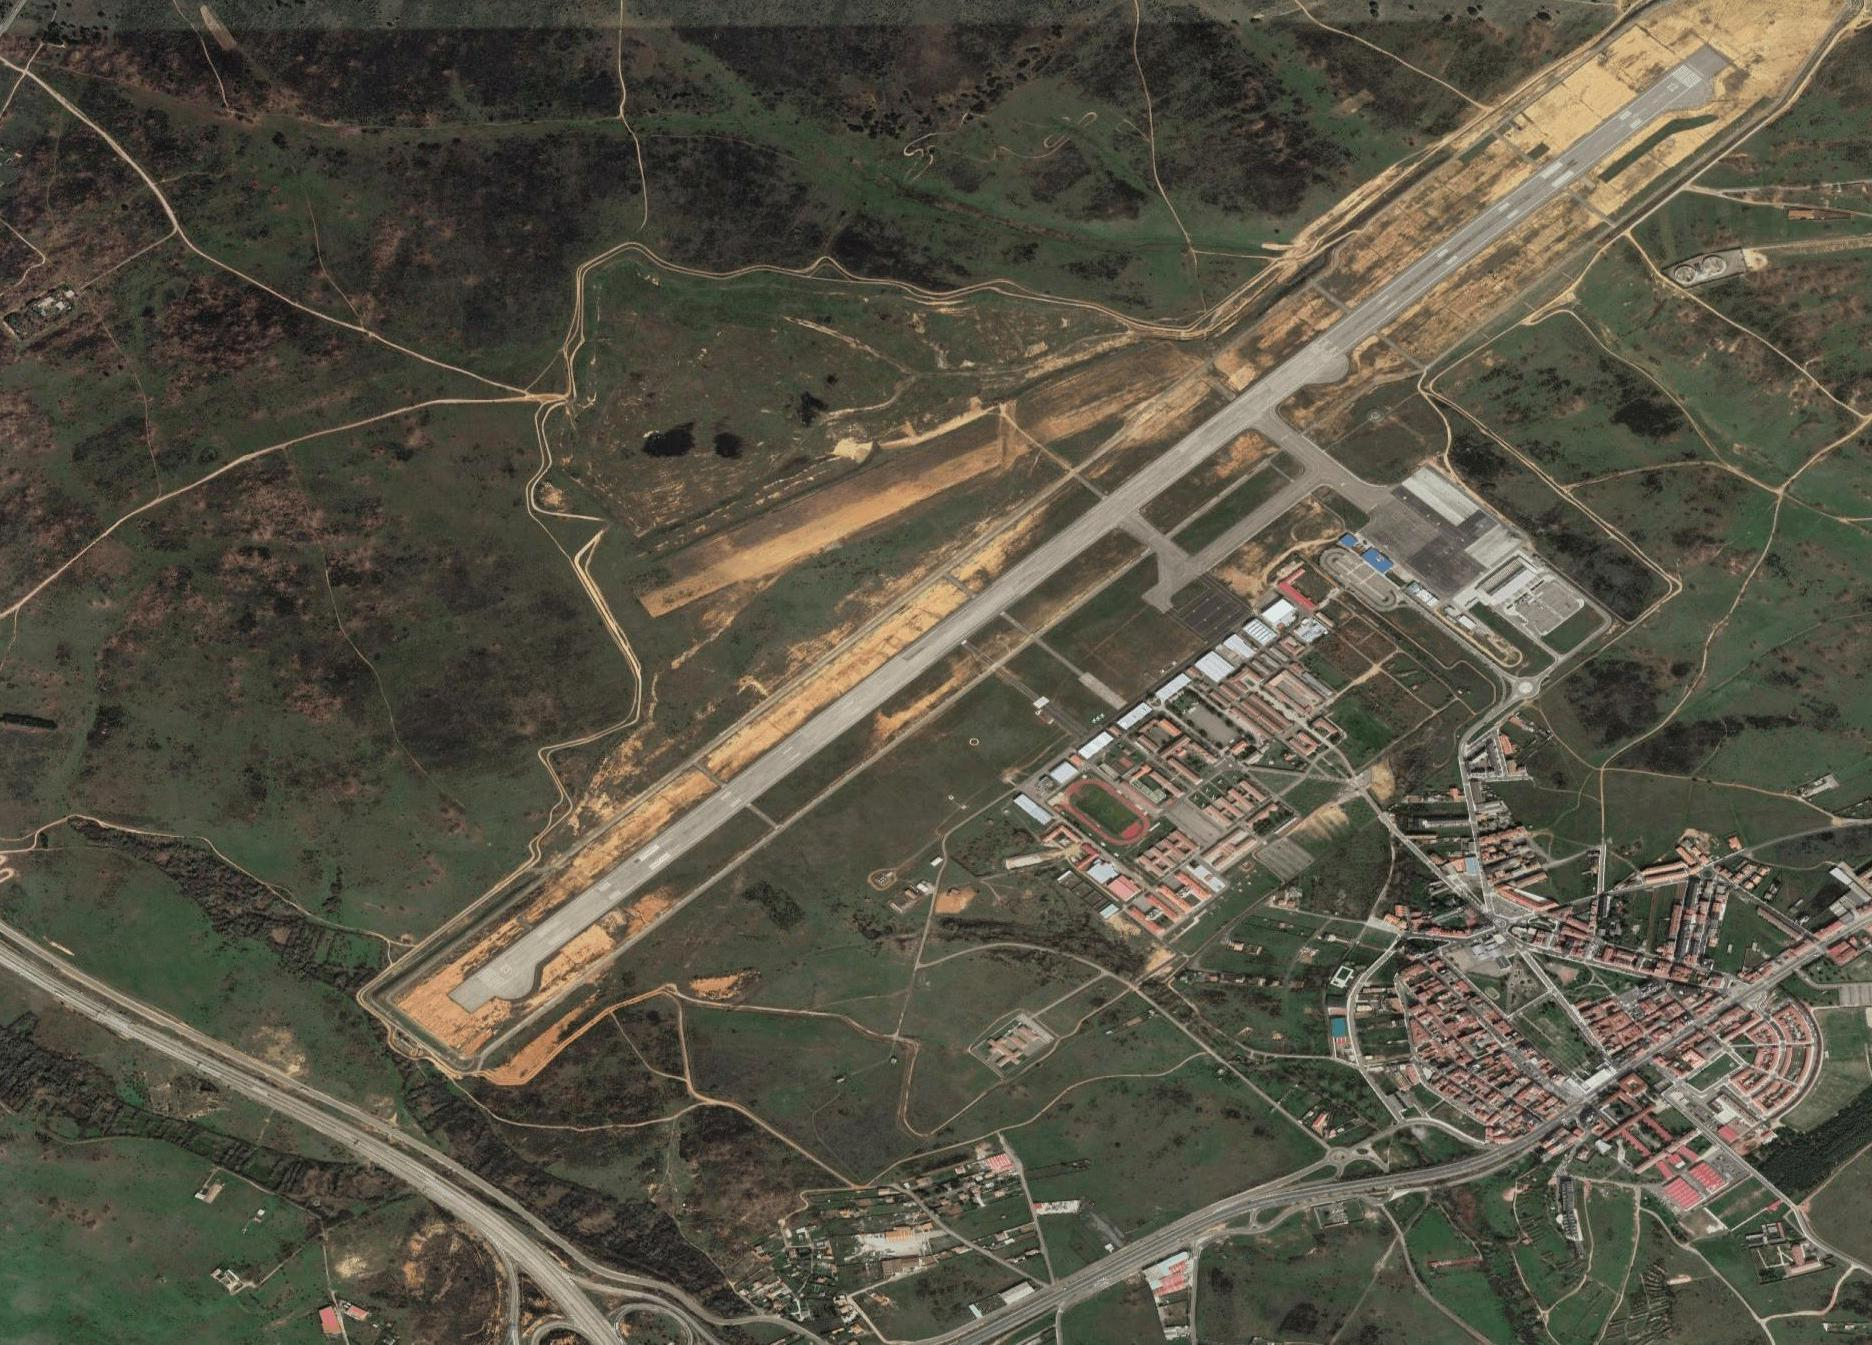airport: (374, 15, 1772, 1076)
motorway: (462, 1201, 632, 1345), (927, 1252, 1137, 1345), (1347, 1109, 1561, 1195), (315, 1107, 483, 1213), (153, 1024, 318, 1128), (1, 929, 166, 1034), (1134, 1179, 1352, 1256)
